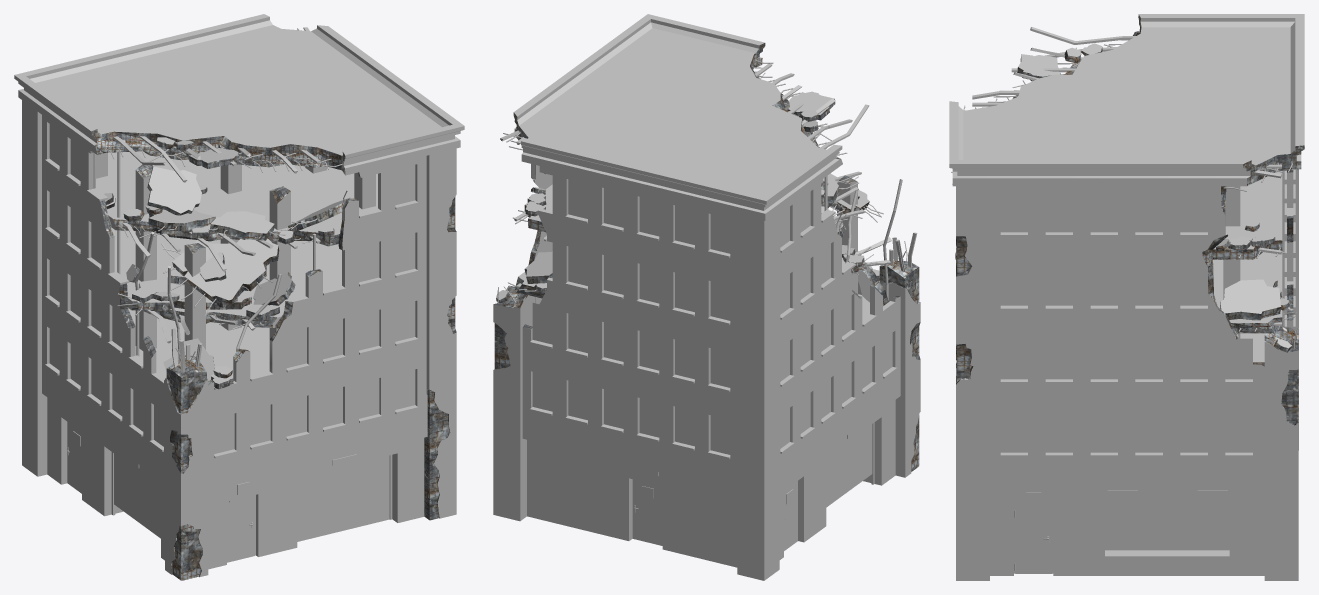
The model's file is Build1_LOD0.fbx.
3 renders of one model, left to right at view 1: azimuth 30°, elevation 25°; view 2: azimuth 150°, elevation 25°; view 3: azimuth 270°, elevation 25°, orthographic. The views are drawn at different scales.
Parts seen in each view (by area): view 1: polySurface1197; view 2: polySurface1197; view 3: polySurface1197.
Part boxes in pixels (<box>): polySurface1197: <box>14,14,464,580</box>; polySurface1197: <box>493,14,920,580</box>; polySurface1197: <box>949,14,1304,580</box>.
Size of the model in its own units: 10.19 by 13.16 by 10.1.
